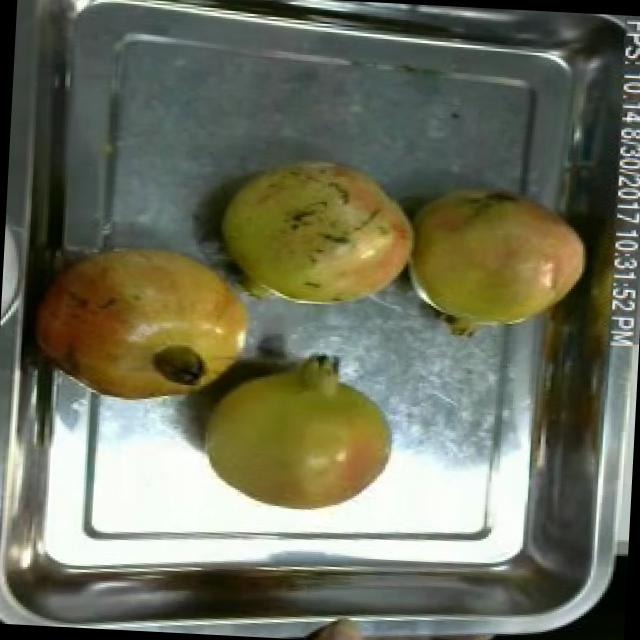fruit: (22, 229, 272, 415), (188, 338, 410, 524), (396, 180, 595, 348), (268, 154, 426, 318)
